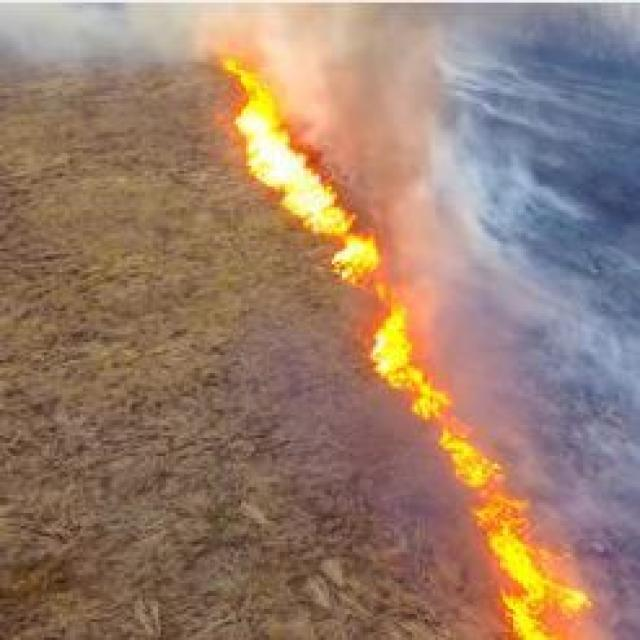Fire: (216, 46, 380, 294), (479, 502, 572, 640), (361, 308, 456, 426), (432, 429, 502, 492)
Smoke: (523, 13, 640, 494), (323, 3, 507, 183), (432, 210, 534, 393), (24, 9, 310, 57)
